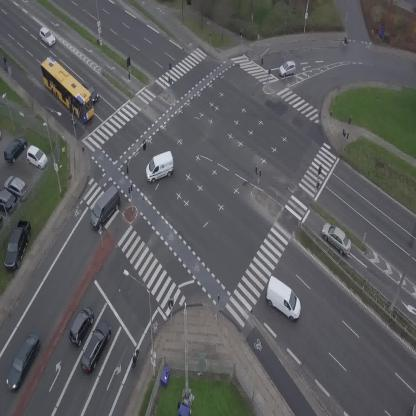bicycle: (129, 347, 140, 370), (339, 36, 352, 49), (1, 55, 10, 70)
bus: (33, 54, 103, 125)
car: (1, 333, 43, 393), (76, 317, 116, 375), (316, 218, 357, 258), (64, 304, 98, 349), (36, 25, 58, 48), (81, 79, 101, 104), (279, 61, 296, 77)
lorry: (256, 275, 310, 324), (82, 185, 128, 232), (140, 150, 179, 185)
